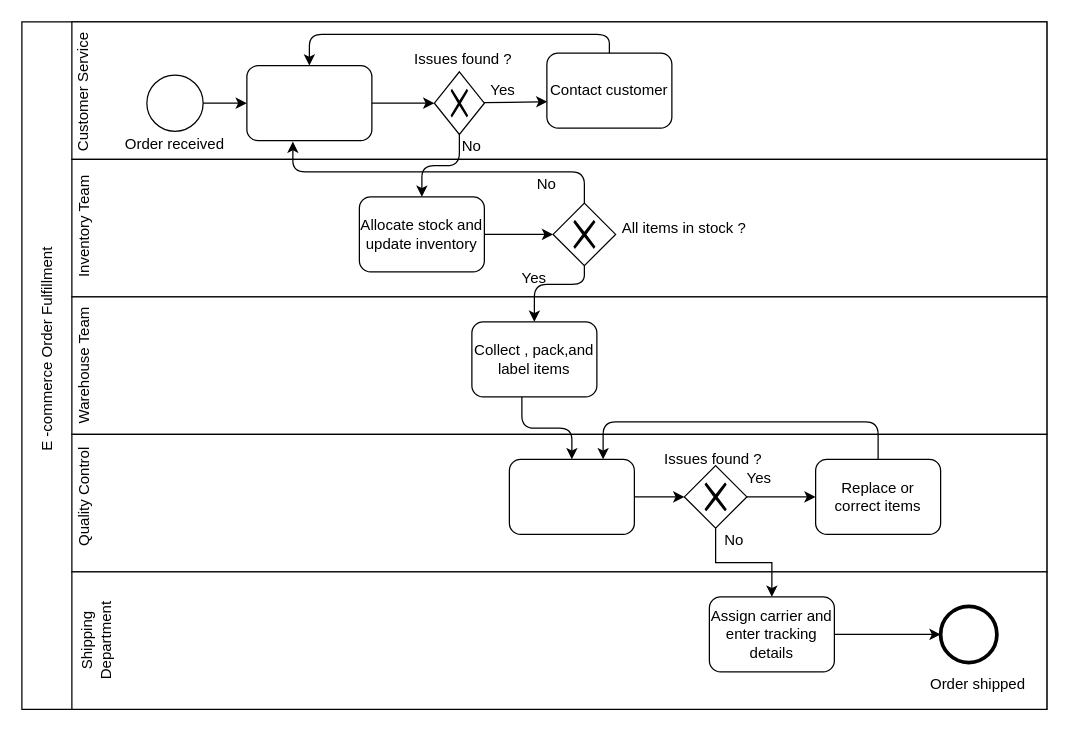
Image size: 1069x731. Some labels were removed from this diagram. The shapes that lost their labels are listed below. From the top down, each one's centre as x and y in pixels, then its label:
(x=309, y=102): Verify customer details and payment
(x=571, y=496): Perform final inspection
